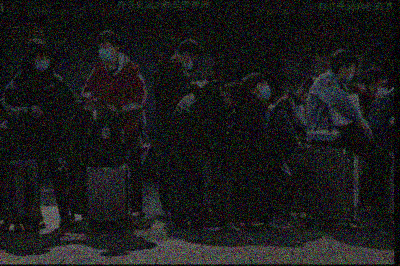mask_weared_incorrect: (343, 69, 357, 84)
with_mask: (98, 43, 114, 61), (35, 55, 51, 72), (257, 82, 272, 100), (375, 80, 389, 98), (182, 58, 196, 71)
